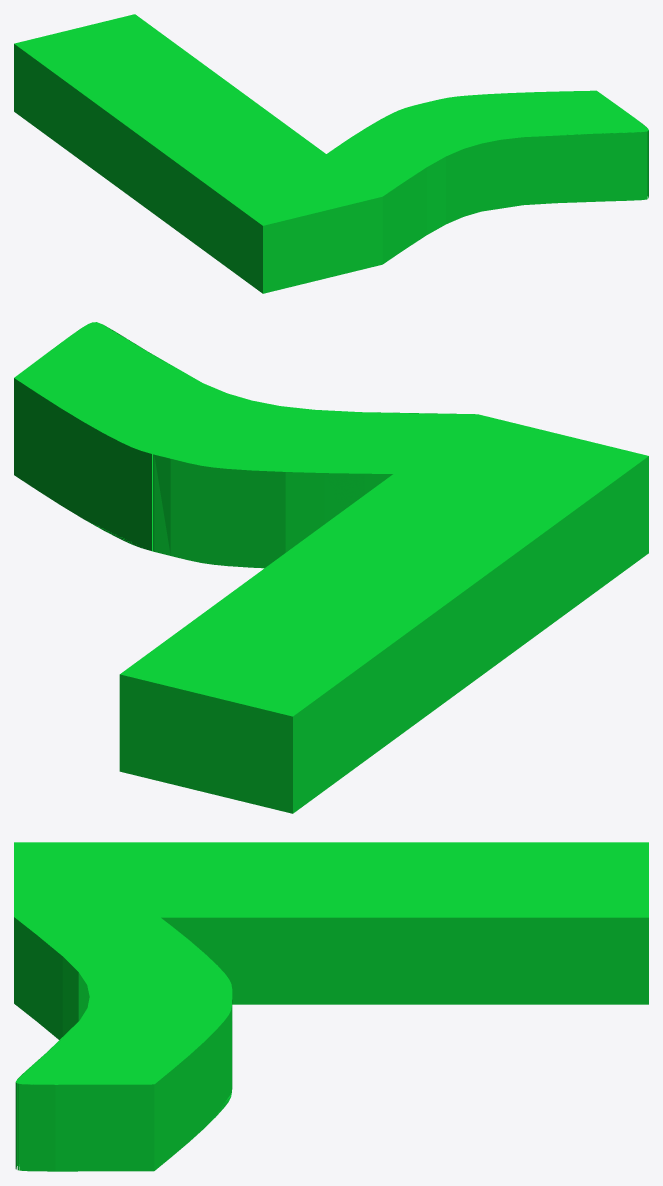
Rendered from pie_cavo.gltf.
3 renders of one model, top to bottom at view 1: azimuth 30°, elevation 25°; view 2: azimuth 150°, elevation 25°; view 3: azimuth 270°, elevation 25°, orthographic. The views are drawn at different scales.
Visible parts, largest first — view 1: Trazar.001; view 2: Trazar.001; view 3: Trazar.001.
Boxes of the visible parts, left/top/right/bottom form: Trazar.001: left=14, top=14, right=648, bottom=293; Trazar.001: left=14, top=322, right=648, bottom=813; Trazar.001: left=14, top=842, right=648, bottom=1171.
Bounding box in the file's own units: 1.2 × 0.2 × 1.33.
